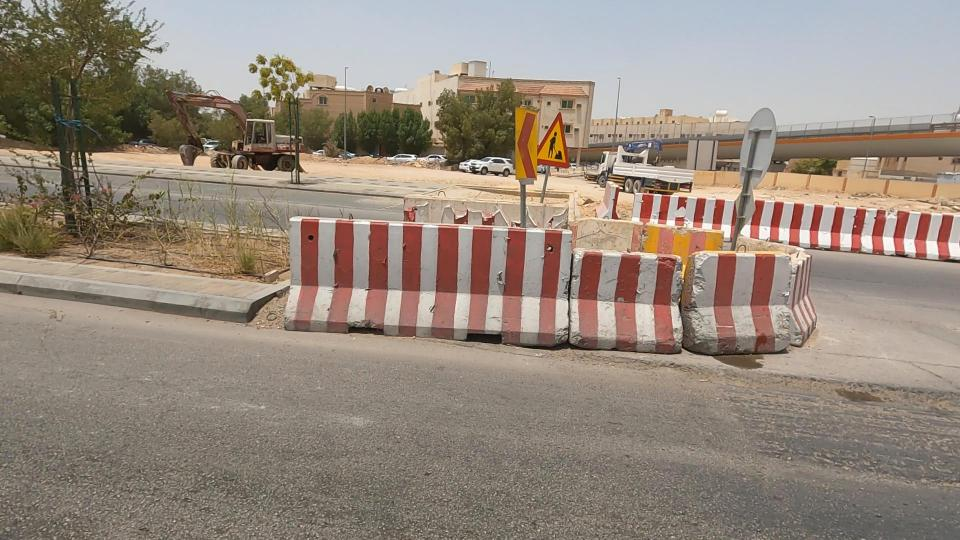CONSTRUCTION_ROAD: (148, 134, 960, 454), (558, 147, 960, 306)
